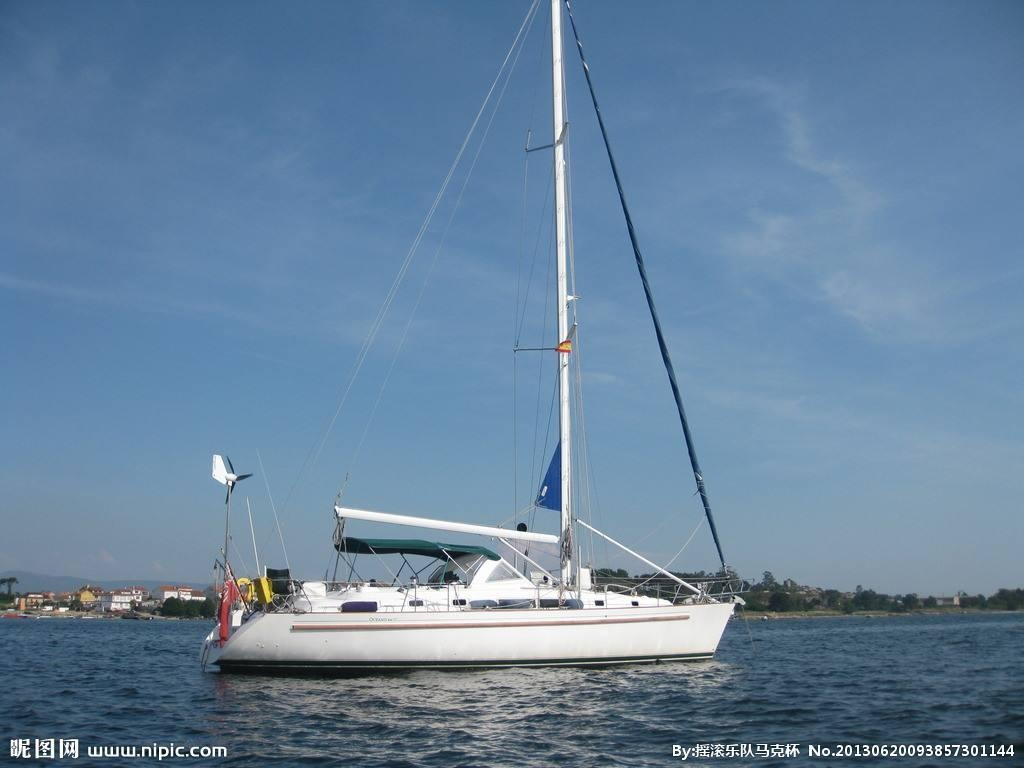fanchuan: (193, 1, 750, 671)
